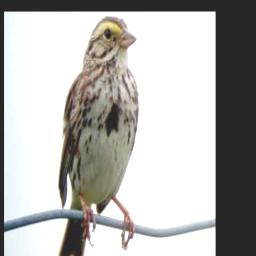Sparrow: (55, 14, 140, 256)
